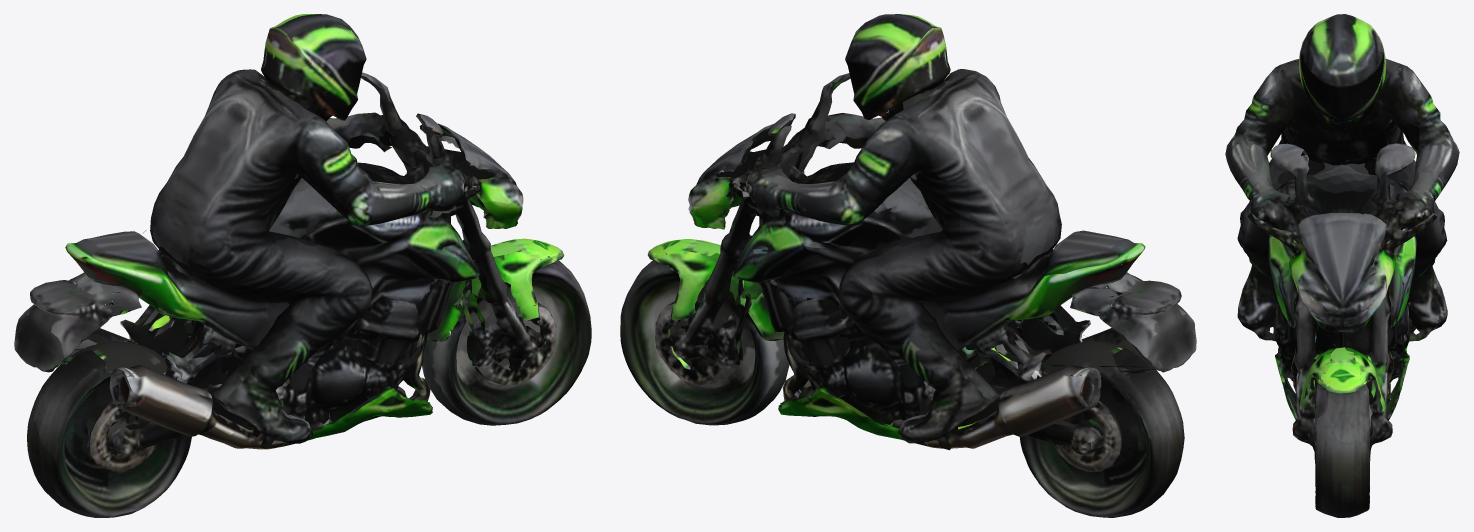
The model's file is Bike Level 5.glb.
The picture shows the model from 3 angles, left to right: view 1: azimuth 30°, elevation 25°; view 2: azimuth 150°, elevation 25°; view 3: azimuth 270°, elevation 25°; orthographic projection. The views are drawn at different scales.
Visible parts, largest first — view 1: tmp6grhbb6g.ply; view 2: tmp6grhbb6g.ply; view 3: tmp6grhbb6g.ply.
Part boxes in pixels (x1=…): tmp6grhbb6g.ply: x1=14, y1=14, x2=591, y2=517; tmp6grhbb6g.ply: x1=620, y1=14, x2=1196, y2=517; tmp6grhbb6g.ply: x1=1225, y1=14, x2=1459, y2=517.
Bounding box in the file's own units: 1.96 × 1.51 × 0.7955.
Materials: 1 (1 with a texture image).
